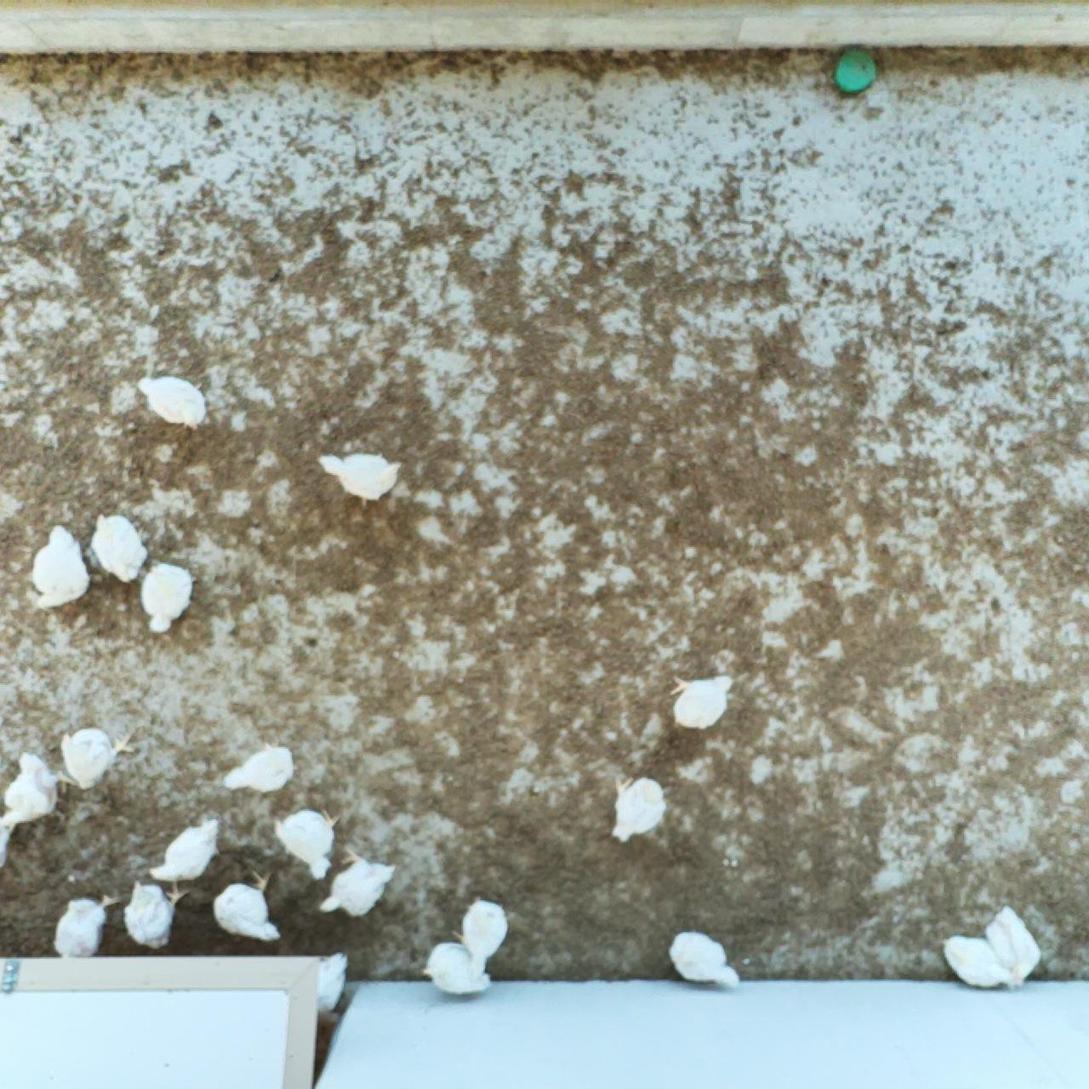chicken: (0, 747, 75, 834), (315, 844, 400, 920), (313, 445, 409, 512), (210, 866, 289, 944), (28, 520, 94, 613), (268, 803, 342, 883), (57, 720, 138, 791), (145, 817, 226, 887), (131, 368, 214, 434), (53, 888, 124, 964), (449, 890, 513, 974), (136, 560, 205, 637), (665, 926, 743, 994), (980, 901, 1041, 986), (122, 877, 191, 952), (606, 769, 671, 847), (667, 667, 740, 735), (221, 737, 303, 796), (90, 510, 150, 586), (937, 931, 1009, 989), (421, 939, 495, 995)
